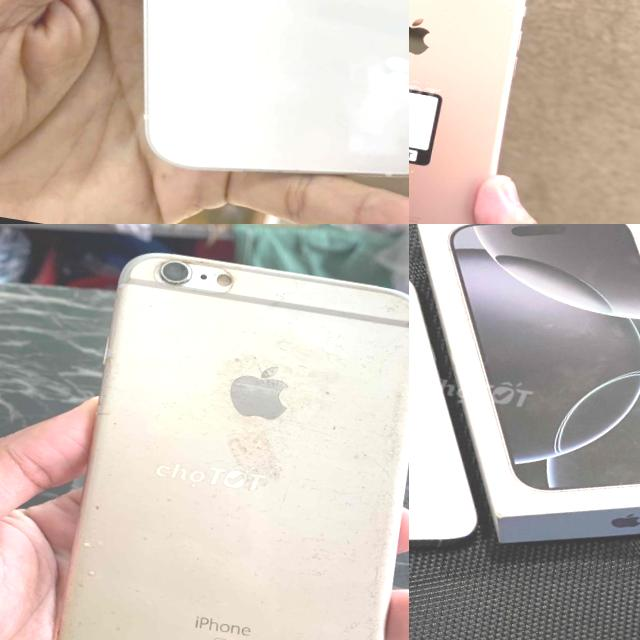gen_12_13: (55, 0, 409, 209)
gen_16: (409, 234, 517, 578)
gen_6: (29, 236, 409, 640)
gen_7_8: (409, 0, 545, 224)
scratch: (186, 308, 359, 510), (276, 507, 409, 640), (344, 287, 409, 496), (52, 492, 143, 628), (136, 246, 248, 310)
